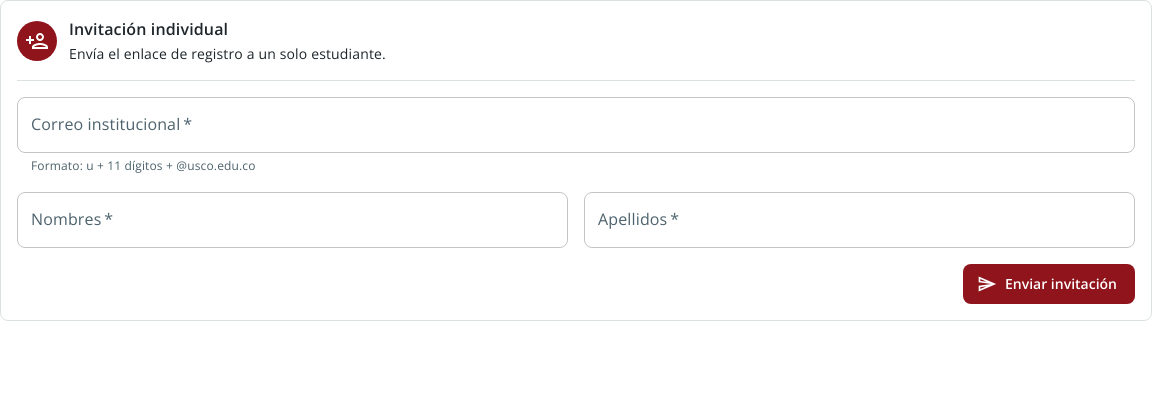
InvitarEstudianteCard › exige los tres campos antes de enviar
Step 1. Click the button "Enviar invitación" → (1049, 284), box [963,264,1135,304]
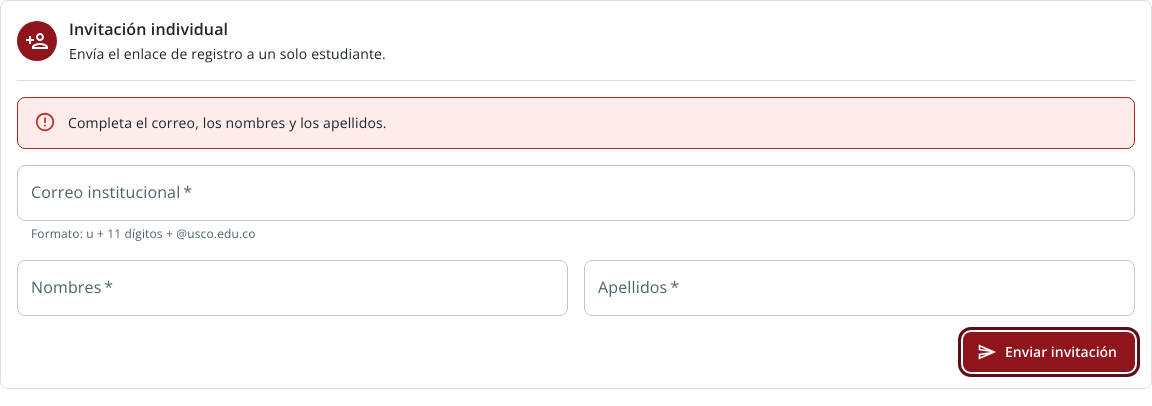
expect the message reads "Completa el correo, los nombres y los apellidos.": met, box [68,113,387,132]
